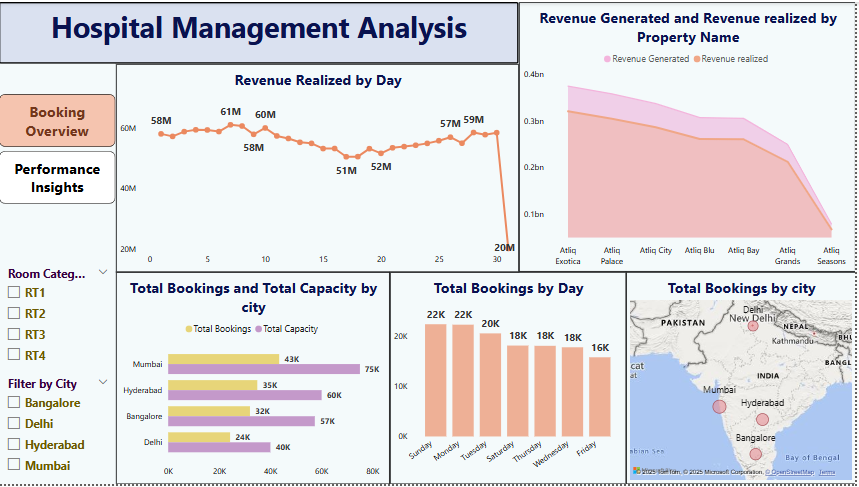

The page's visual inventory and layout, read from the dashboard file:
{"tool":"powerbi","page":{"name":"Details","canvas":[1280,720],"ordinal":1},"visuals":[{"type":"textbox","box":[0,0,776.1,92.4],"z":0},{"type":"clusteredBarChart","fields":{"Category":["dim_hotel.city"],"Y":["Key Measures Table.Total Bookings","Key Measures Table.Total Capacity"]},"box":[174.8,403.3,409.3,316.7],"z":1000},{"type":"lineChart","title":"Revenue Realized by Day","fields":{"Category":["Calendar.day"],"Y":["Key Measures Table.Revenue realized"]},"box":[174.8,92.6,602,310.7],"z":2000},{"type":"clusteredColumnChart","fields":{"Category":["dim_date.Day"],"Y":["Key Measures Table.Total Bookings"]},"box":[584.1,403.3,352.5,316.7],"z":3000},{"type":"areaChart","title":"Revenue Generated and Revenue realized by Property Name","fields":{"Category":["dim_hotel.property_name"],"Y":["Key Measures Table.Revenue Generated","Key Measures Table.Revenue realized"]},"box":[776.8,0,503.4,403.3],"z":4000},{"type":"slicer","fields":{"Values":["dim_hotel.city"]},"box":[0,552.7,174.8,167.3],"z":5000},{"type":"slicer","fields":{"Values":["fact_aggregated_booking.room_category"]},"box":[0,388.4,174.8,164.3],"z":6000},{"type":"map","fields":{"Category":["dim_hotel.city"],"Size":["Key Measures Table.Total Bookings"]},"box":[936.6,403.3,343.6,316.7],"z":7000},{"type":"pageNavigator","box":[0,192.7,174.8,150.9],"z":7001}]}

Visuals, with their boxes in screenshot pixels (x1, y1, x2, y2), scaled from the page's 1280x720 canvas onto the 859x487 screenshot:
textbox: select_region(0, 0, 521, 62)
clusteredBarChart - dim_hotel.city x Key Measures Table.Total Bookings: select_region(117, 273, 392, 486)
"Revenue Realized by Day" lineChart: select_region(117, 63, 521, 273)
clusteredColumnChart - dim_date.Day x Key Measures Table.Total Bookings: select_region(392, 273, 629, 486)
"Revenue Generated and Revenue realized by Property Name" areaChart: select_region(521, 0, 858, 273)
slicer - dim_hotel.city: select_region(0, 374, 117, 486)
slicer - fact_aggregated_booking.room_category: select_region(0, 263, 117, 374)
map - dim_hotel.city x Key Measures Table.Total Bookings: select_region(629, 273, 858, 486)
pageNavigator: select_region(0, 130, 117, 232)
